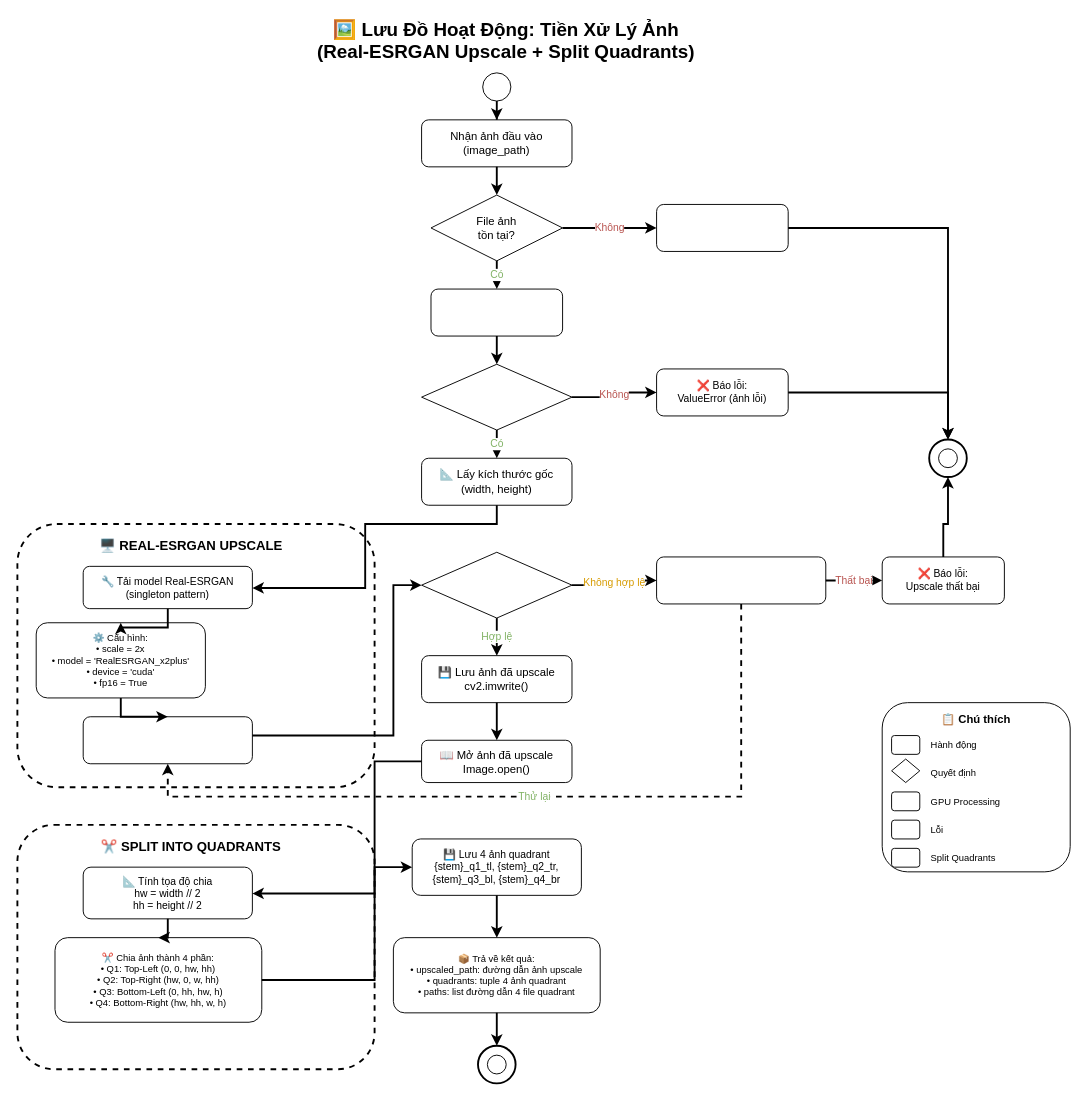
Image size: 1087x1100. Some labels were removed from this diagram. The centre of each missing label's shape, as x and y in pixels:
"Output hợp lệ? (mean > 5)" belongs at (x=496, y=584).
"Ảnh hợp lệ? (không null/corrupted)" belongs at (x=496, y=396).
"⚠️ Fallback: FP32 Thử lại với độ chính xác cao hơn" belongs at (x=741, y=580).
"❌ Báo lỗi: FileNotFoundError" belongs at (x=722, y=227).
"📖 Đọc ảnh cv2.imread()" belongs at (x=496, y=312).
"🖼️ GPU: model.enhance() Upscale ảnh 2x" belongs at (x=167, y=740).
